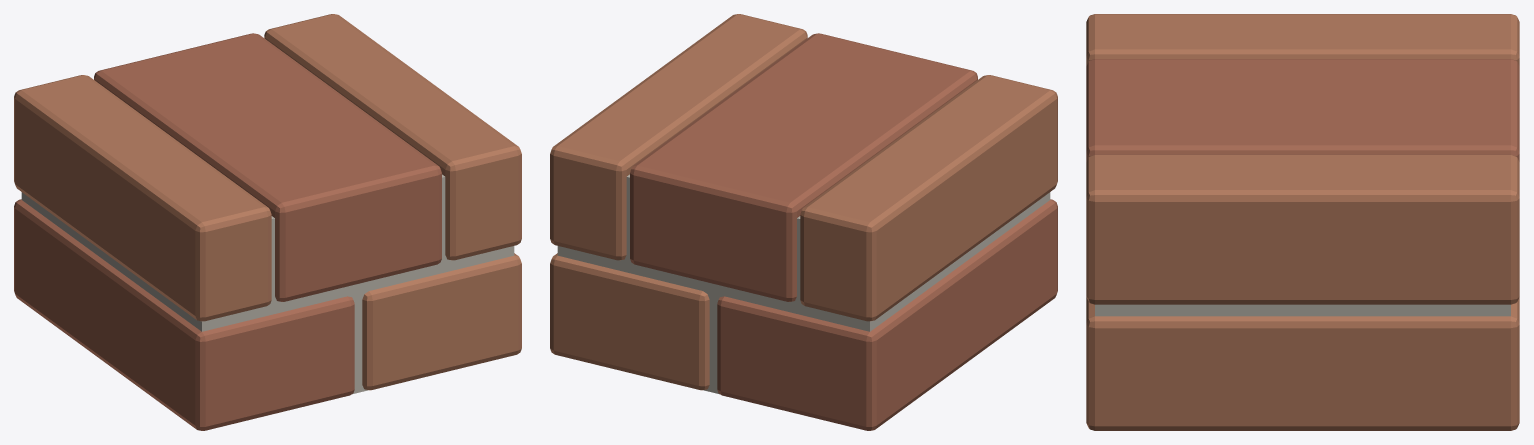
Rendered from Muro.glb.
3 renders of one model, left to right at view 1: azimuth 30°, elevation 25°; view 2: azimuth 150°, elevation 25°; view 3: azimuth 270°, elevation 25°, orthographic. The views are drawn at different scales.
Visible parts, largest first — view 1: Muro; view 2: Muro; view 3: Muro.
Part boxes in pixels (bbox=[...]): Muro: bbox=[14, 14, 521, 430]; Muro: bbox=[550, 14, 1057, 430]; Muro: bbox=[1086, 14, 1519, 430].
Size of the model in its own units: 0.98 by 0.6 by 0.98.
